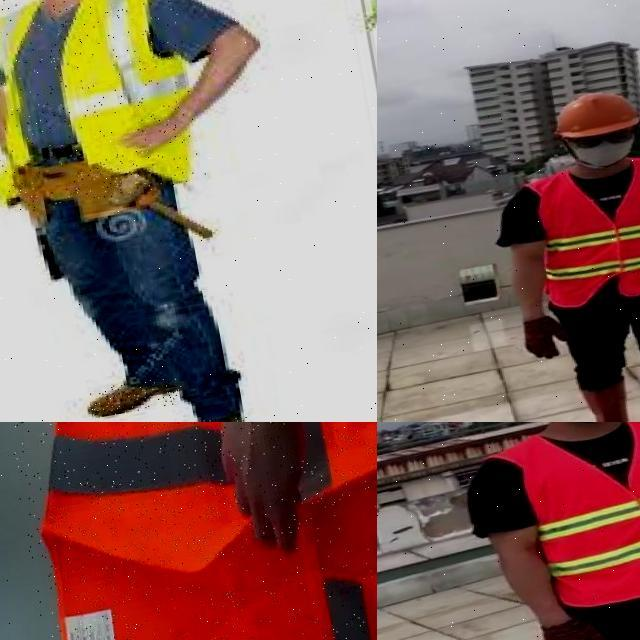boots: (84, 374, 184, 418), (578, 379, 636, 422)
helmet: (547, 82, 640, 141)
vest: (0, 422, 377, 640), (0, 0, 207, 216), (516, 422, 640, 612), (523, 150, 640, 308)
